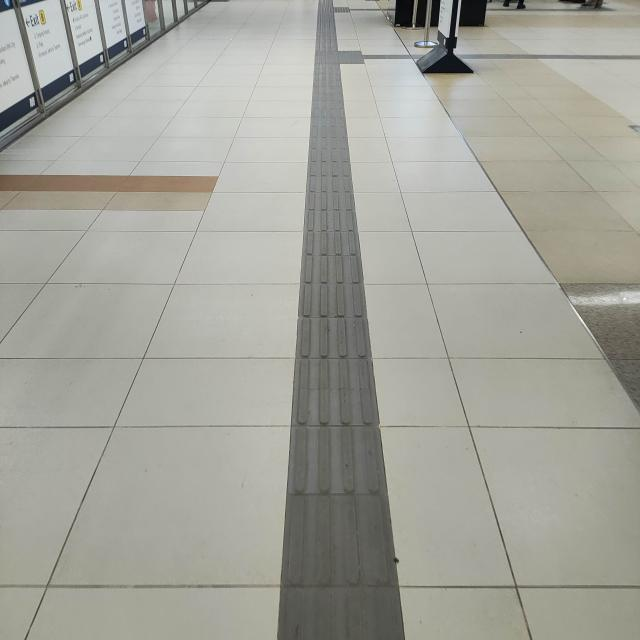lurus: (284, 74, 397, 640)
